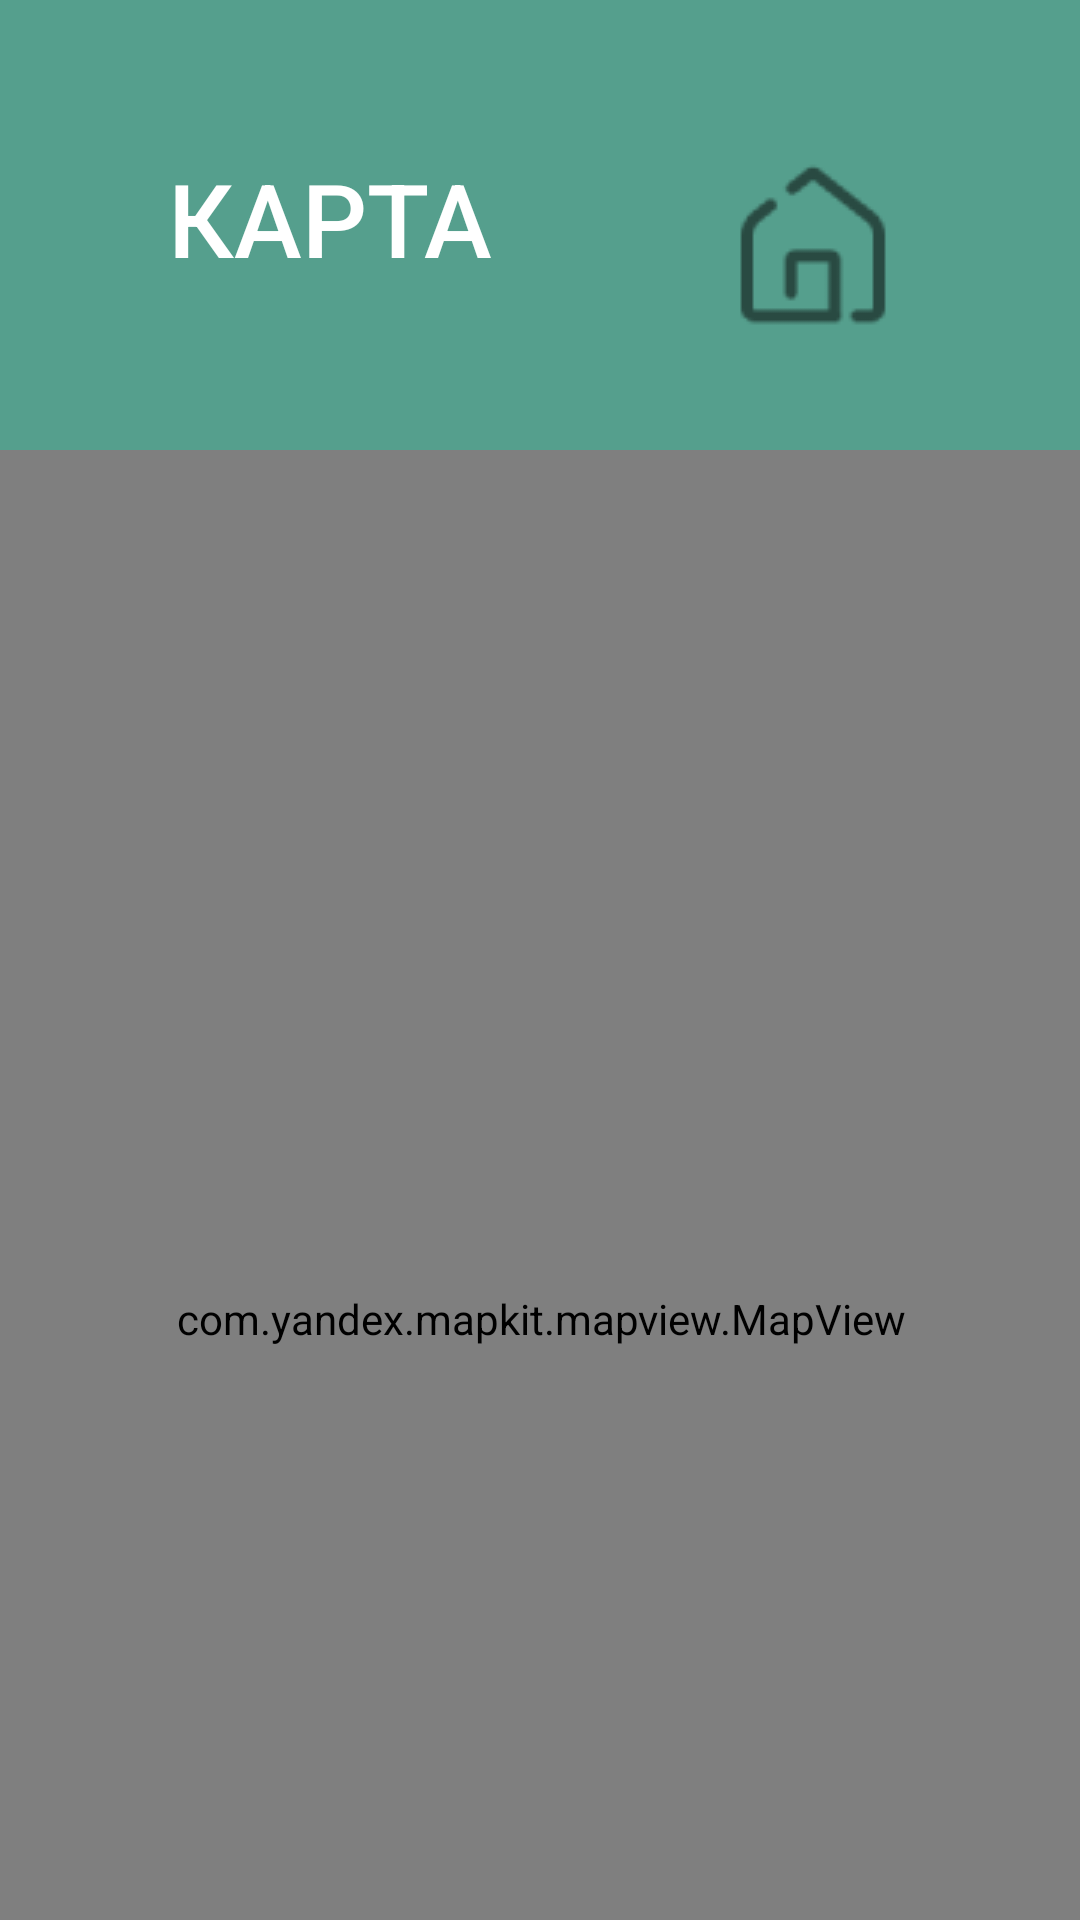

Screen size 1080w x 1920h. Icon name, then its center in pixels as (x=x, y=y):
home: (x=813, y=245)
